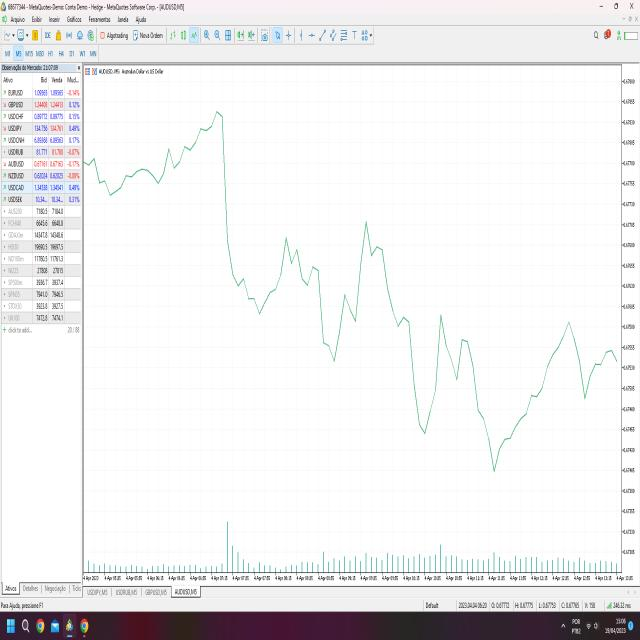oco_inv: (440, 301, 594, 485)
